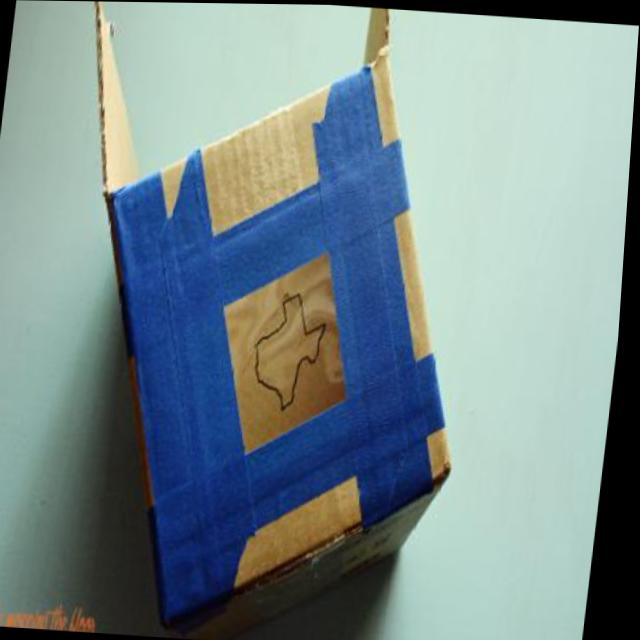box: (26, 1, 512, 628)
